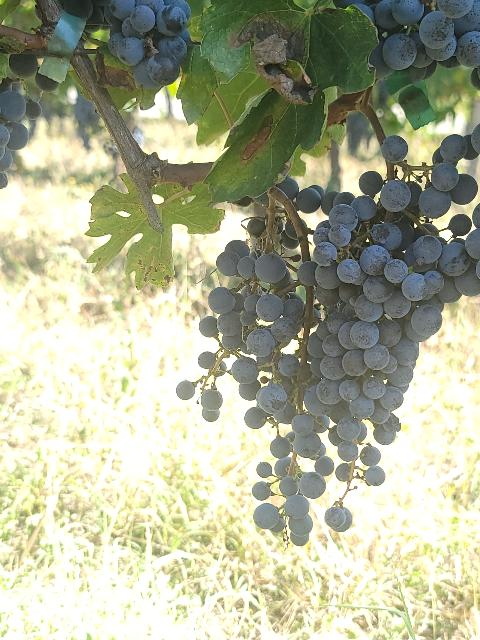grapes: (300, 135, 480, 531), (178, 240, 334, 545)
